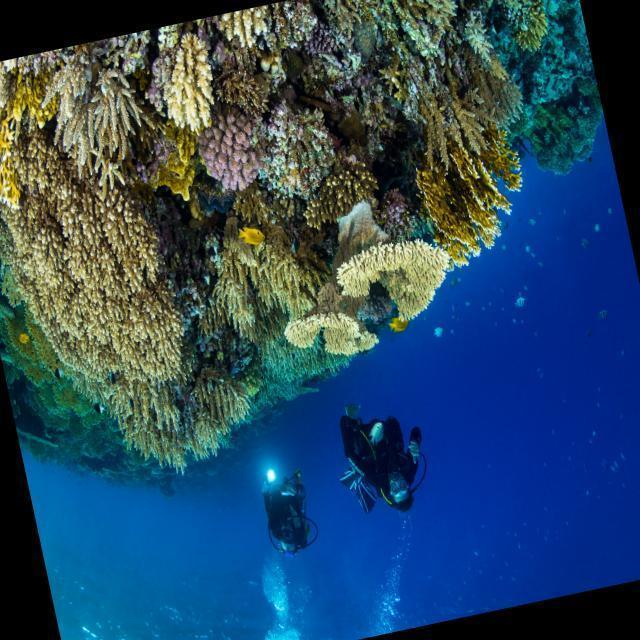Bleached Coral: (159, 34, 221, 131)
Healthy Coral: (10, 184, 183, 409), (93, 366, 263, 488), (406, 135, 539, 277), (37, 56, 154, 176), (334, 256, 451, 330), (195, 215, 259, 349), (285, 160, 382, 229), (189, 123, 268, 206), (241, 237, 324, 313), (143, 130, 202, 205), (506, 0, 559, 55), (391, 0, 457, 31), (310, 0, 364, 35), (347, 23, 382, 58)
